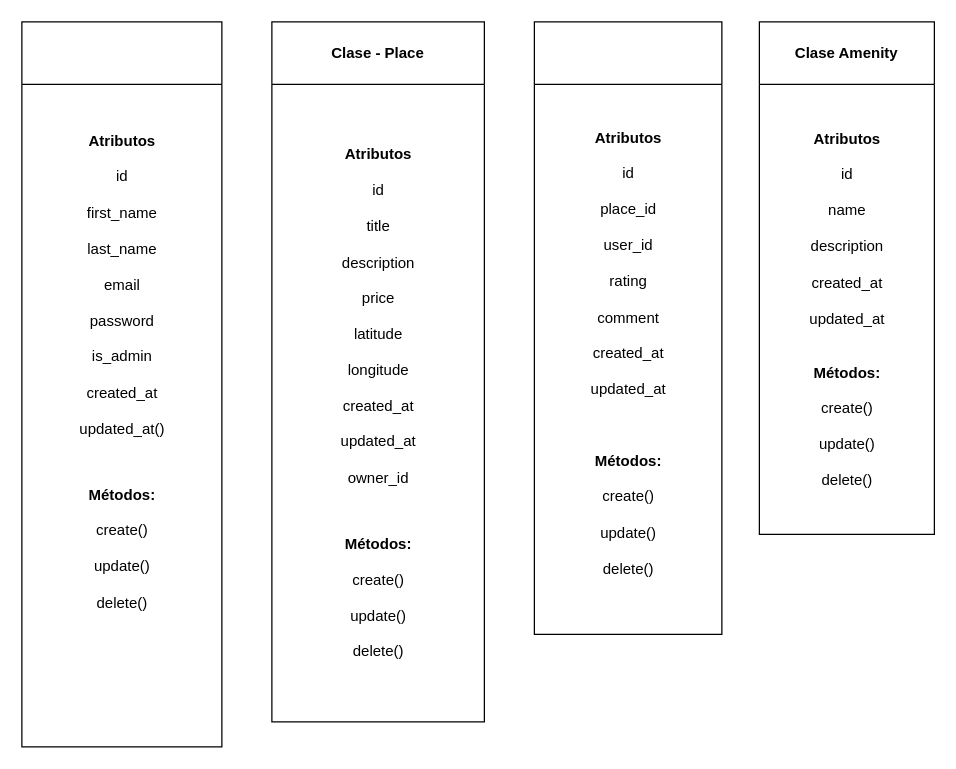
This 956x769 diagram has some shape labels left out. Each missing label, with the box of its shape:
Clase - Review: (533, 21, 722, 634)
Clase - User: (21, 21, 222, 747)
